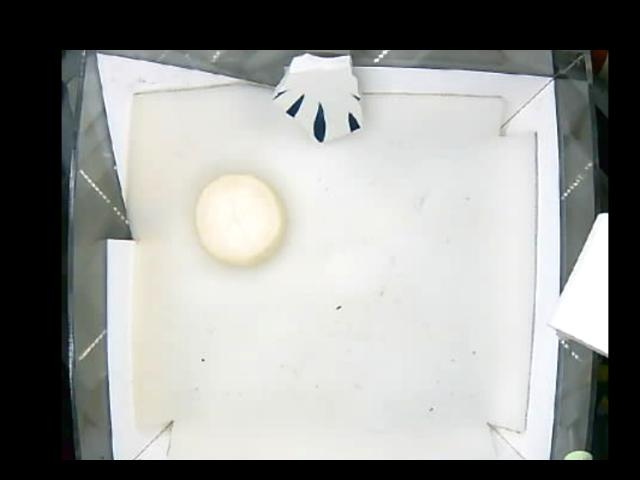China: (273, 53, 358, 144)
Mooli: (191, 172, 288, 269)
